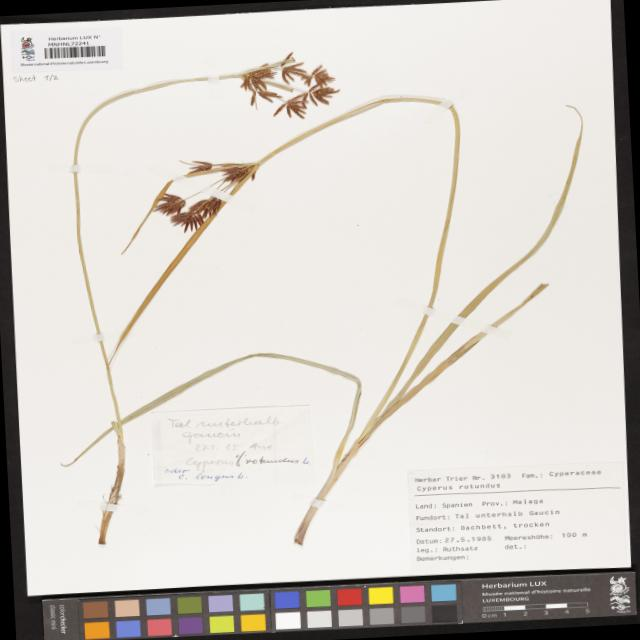cyperus: (228, 45, 338, 124)
